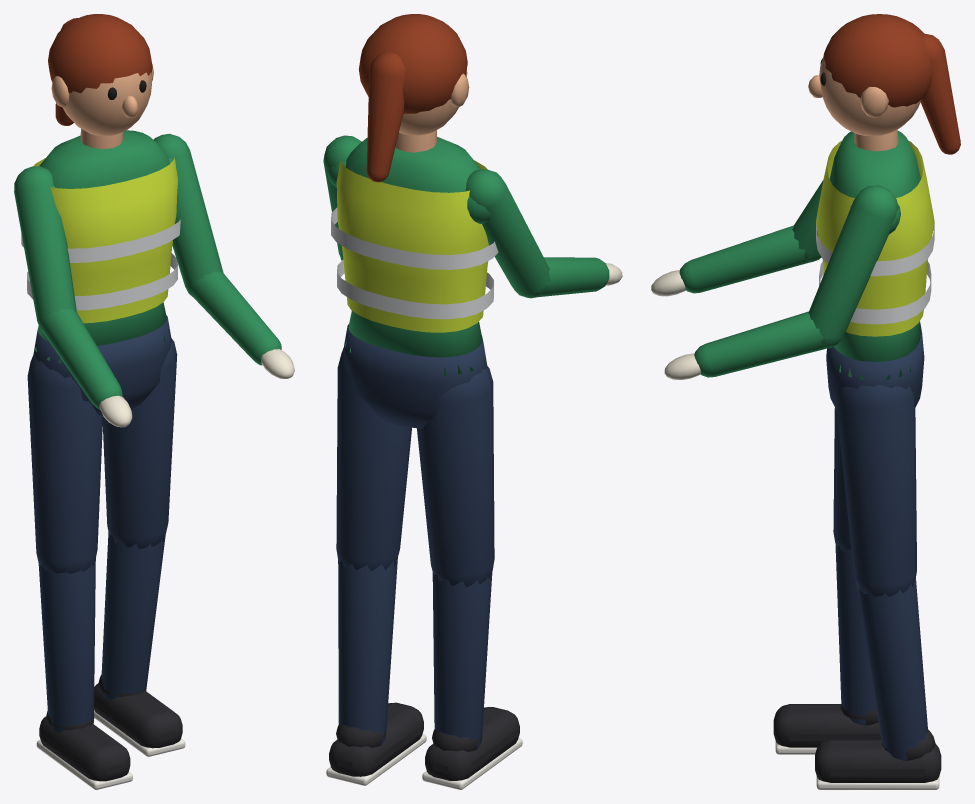
Rendered from picker_b.fbx.
3 renders of one model, left to right at view 1: azimuth 30°, elevation 25°; view 2: azimuth 150°, elevation 25°; view 3: azimuth 270°, elevation 25°, orthographic. The views are drawn at different scales.
Visible parts, largest first — view 1: picker_b; view 2: picker_b; view 3: picker_b.
Part boxes in pixels (<box>): picker_b: <box>14,14,294,789</box>; picker_b: <box>323,14,622,789</box>; picker_b: <box>651,14,960,789</box>.
Bounding box in the file's own units: 0.497 × 1.76 × 0.6622.
